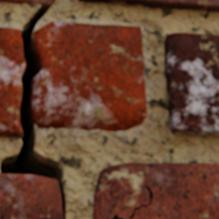brick: (93, 162, 218, 218), (164, 33, 218, 134), (0, 172, 63, 218), (79, 0, 218, 11), (0, 0, 52, 4)
broken_brick: (33, 21, 146, 130), (0, 27, 25, 135)
crack: (0, 0, 64, 217), (129, 184, 151, 218), (112, 213, 123, 218)
